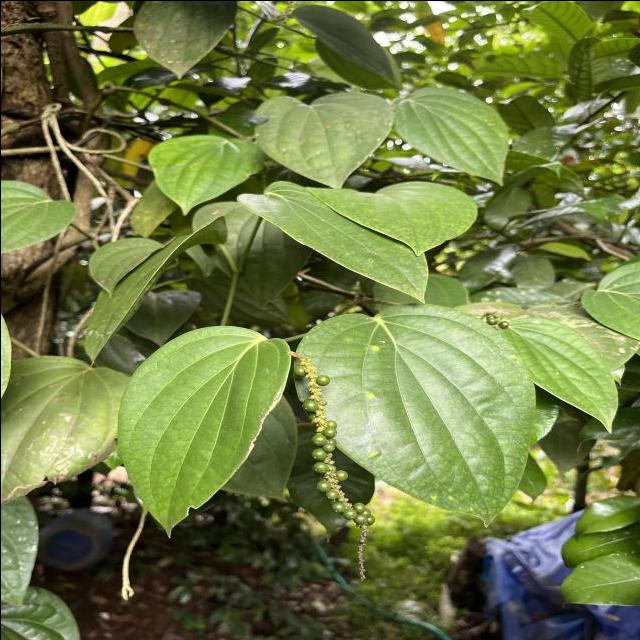Piper nigrum: (288, 302, 536, 528), (114, 322, 294, 540)
